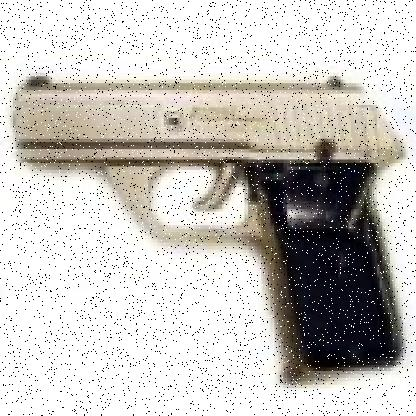pistol: (13, 73, 403, 385)
